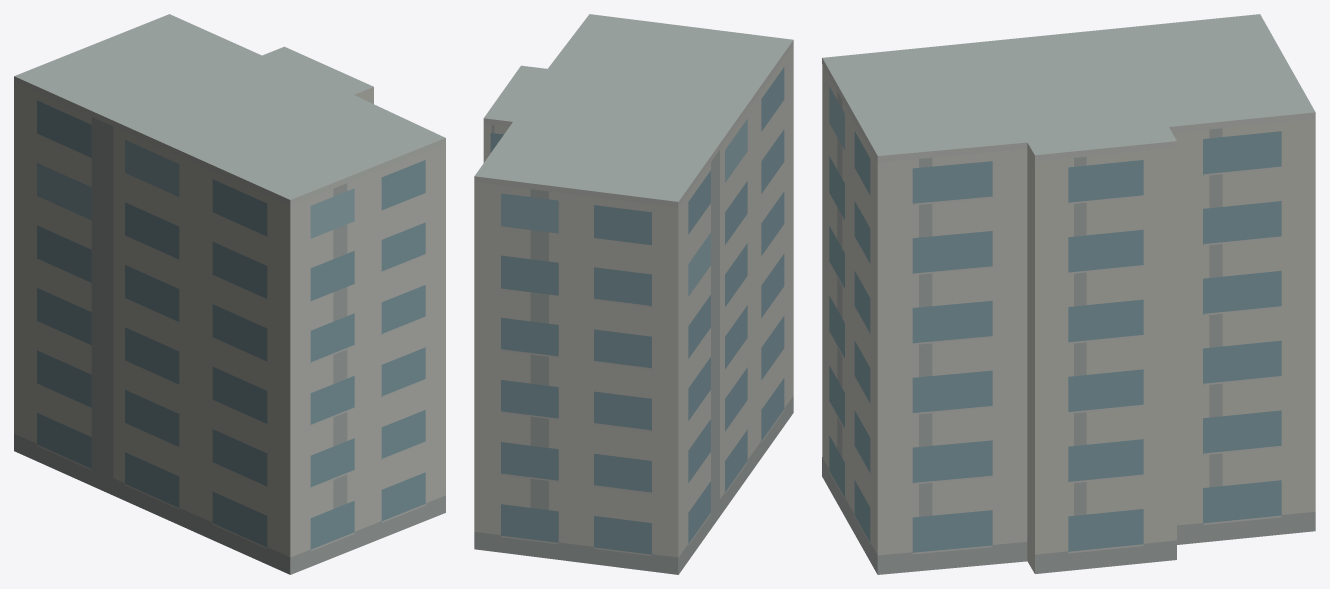
File: survey-upis-32639893.glb
The picture shows the model from 3 angles, left to right: view 1: azimuth 30°, elevation 25°; view 2: azimuth 150°, elevation 25°; view 3: azimuth 270°, elevation 25°; orthographic projection. The views are drawn at different scales.
Visible parts, largest first — view 1: survey-upis-32639893.tmp; view 2: survey-upis-32639893.tmp; view 3: survey-upis-32639893.tmp.
Boxes of the visible parts, <box> form: survey-upis-32639893.tmp: <box>14,14,445,574</box>; survey-upis-32639893.tmp: <box>474,14,793,574</box>; survey-upis-32639893.tmp: <box>822,14,1315,574</box>.
Bounding box in the file's own units: 11.36 × 15.6 × 16.67.
